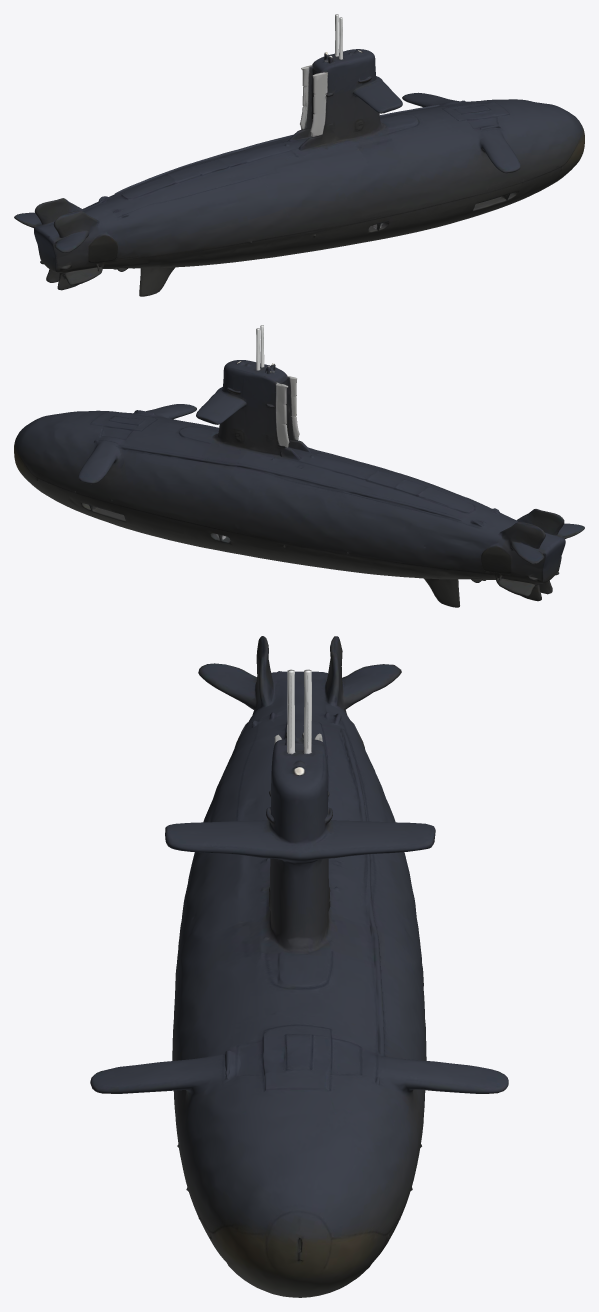
The model's file is submarine.glb.
The picture shows the model from 3 angles, top to bottom: view 1: azimuth 30°, elevation 25°; view 2: azimuth 150°, elevation 25°; view 3: azimuth 270°, elevation 25°; orthographic projection. The views are drawn at different scales.
Visible parts, largest first — view 1: Object_2; view 2: Object_2; view 3: Object_2.
Part boxes in pixels (x1,y1,x2,y2): Object_2: (14, 14, 584, 296); Object_2: (14, 325, 584, 607); Object_2: (90, 636, 508, 1297).
Bounding box in the file's own units: 1 × 0.4078 × 0.3332.
1 material, 1 textured.
